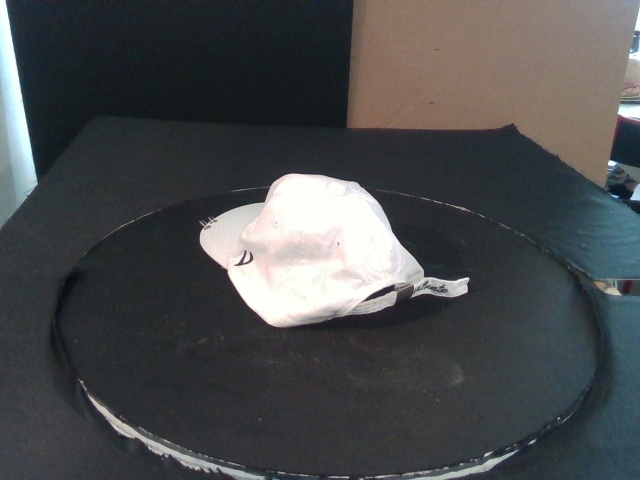hat: (198, 173, 425, 329)
